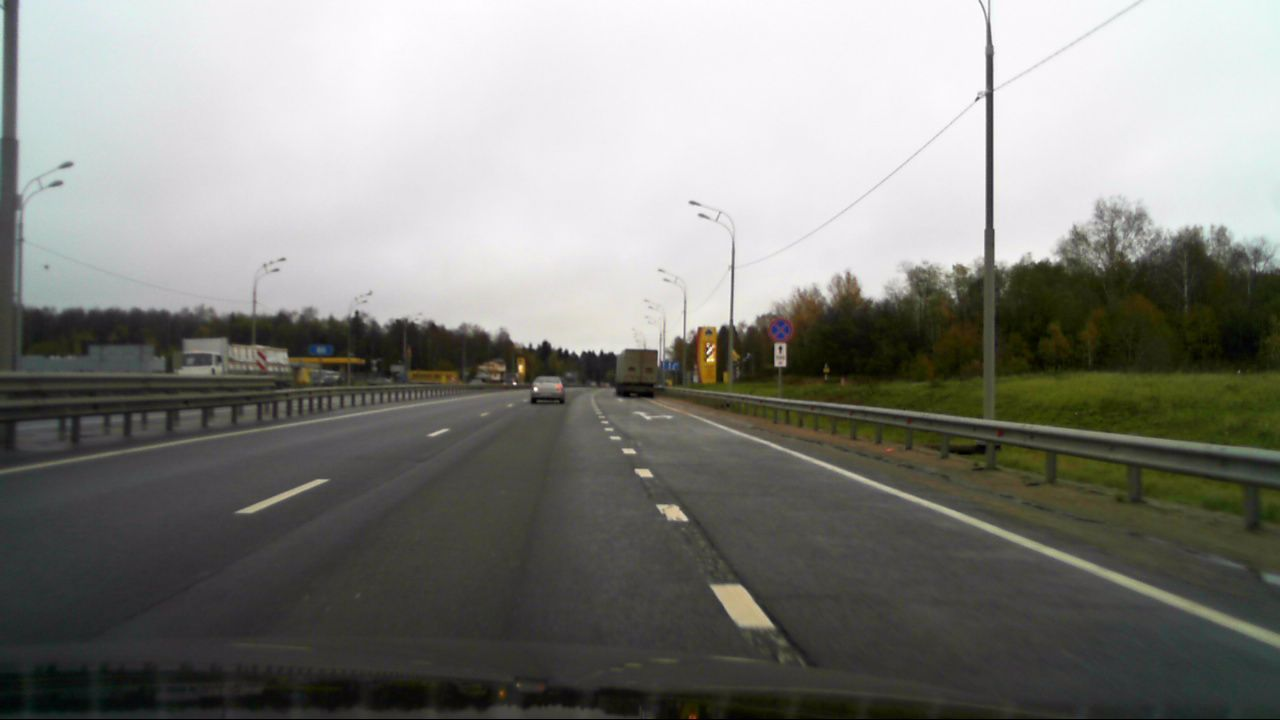No Parking: (769, 317, 793, 341)
